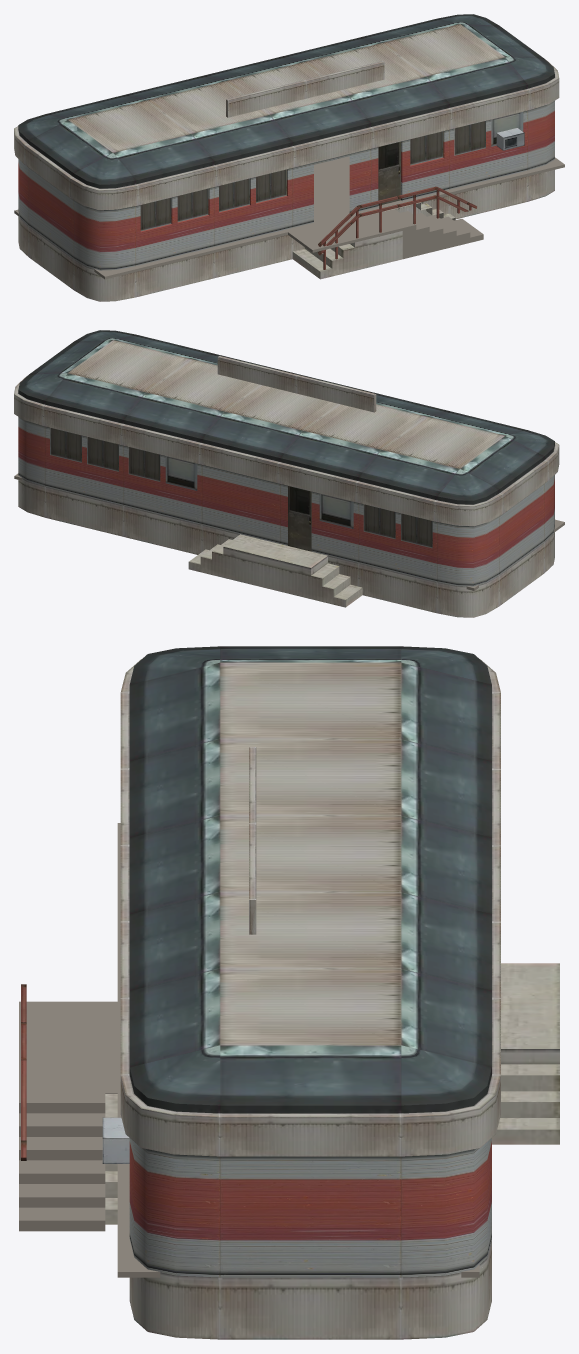
The model's file is rural-diner.walls-v2.lod0.glb.
3 views of the same model, one above another, from view 1: azimuth 30°, elevation 25°; view 2: azimuth 150°, elevation 25°; view 3: azimuth 270°, elevation 25° (orthographic). The views are drawn at different scales.
Visible parts, largest first — view 1: Rural_Diner_1_Rural_Facade_FLR_2_0, Rural_Diner_1_Rural_Trailer_Stuff_1_0, Walkable floors and stairs; view 2: Rural_Diner_1_Rural_Facade_FLR_2_0, Rural_Diner_1_Rural_Trailer_Stuff_1_0; view 3: Rural_Diner_1_Rural_Facade_FLR_2_0, Rural_Diner_1_Rural_Trailer_Stuff_1_0, Walkable floors and stairs.
Part boxes in pixels (left/top/right/bottom): Rural_Diner_1_Rural_Facade_FLR_2_0: left=14, top=14, right=559, bottom=301; Rural_Diner_1_Rural_Trailer_Stuff_1_0: left=18, top=101, right=554, bottom=270; Walkable floors and stairs: left=14, top=156, right=564, bottom=279; Rural_Diner_1_Rural_Facade_FLR_2_0: left=14, top=330, right=559, bottom=617; Rural_Diner_1_Rural_Trailer_Stuff_1_0: left=18, top=417, right=554, bottom=586; Rural_Diner_1_Rural_Facade_FLR_2_0: left=21, top=646, right=559, bottom=1339; Rural_Diner_1_Rural_Trailer_Stuff_1_0: left=129, top=1138, right=491, bottom=1277; Walkable floors and stairs: left=19, top=823, right=479, bottom=1277.
Size of the model in its own units: 18.3 by 5.31 by 8.96.
Materials: 3 (2 with a texture image).
